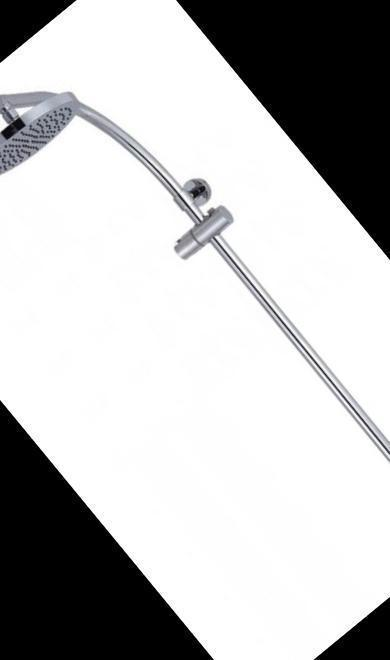Ducha: (0, 8, 390, 636)
